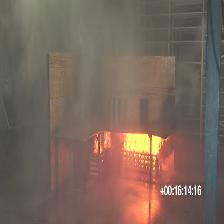fire: (87, 124, 168, 160)
